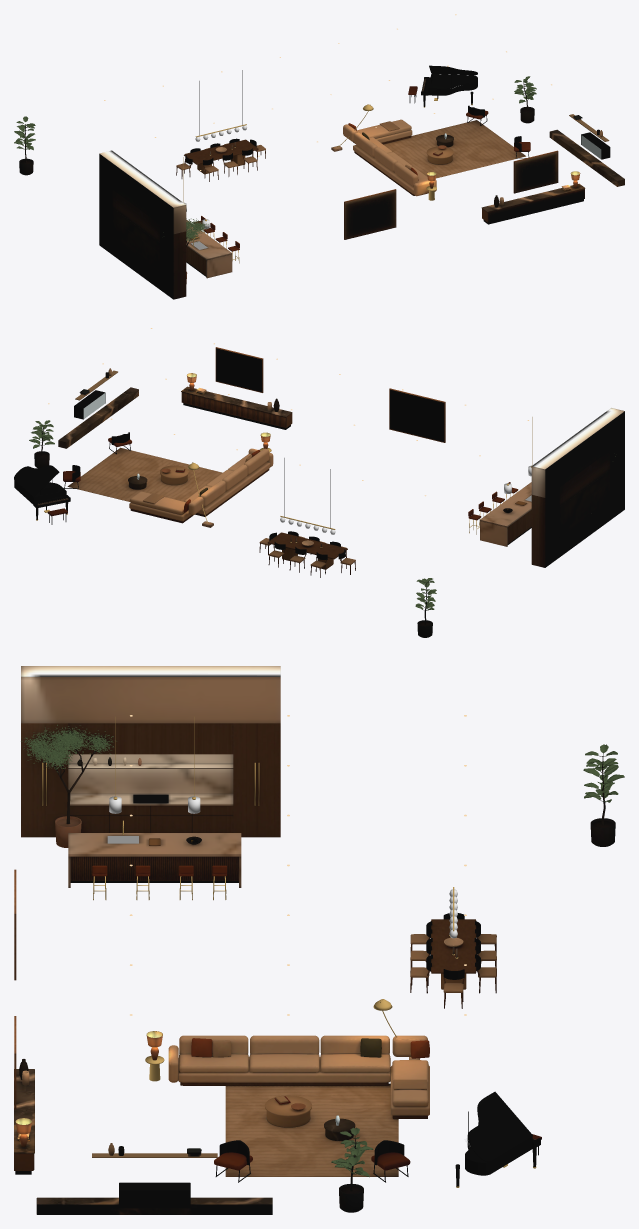
Rendered from int_furn.glb.
3 views of the same model, one above another, from view 1: azimuth 30°, elevation 25°; view 2: azimuth 150°, elevation 25°; view 3: azimuth 270°, elevation 25° (orthographic). The views are drawn at different scales.
Visible parts, largest first — view 1: int_furn; view 2: int_furn; view 3: int_furn.
Part boxes in pixels (x1=…): int_furn: x1=14, y1=14, x2=624, y2=299; int_furn: x1=14, y1=328, x2=624, y2=637; int_furn: x1=14, y1=666, x2=624, y2=1214.
Bounding box in the file's own units: 23.89 × 4.51 × 15.54.
Materials: 42 (29 with a texture image).
